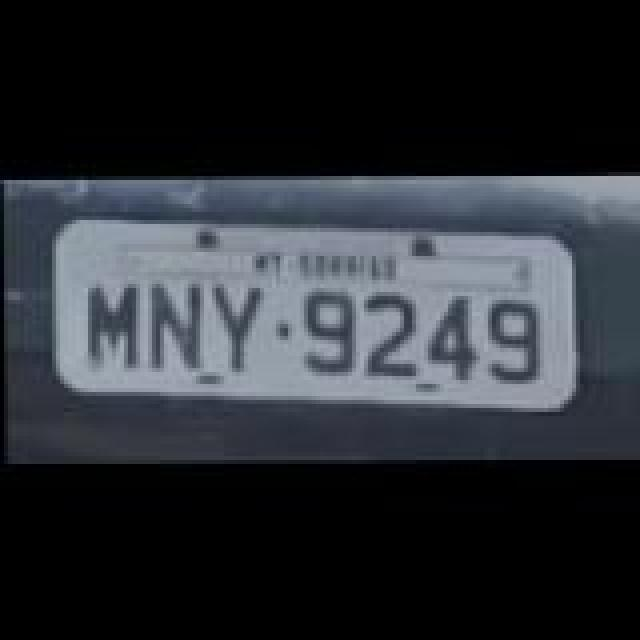2: (364, 292, 420, 376)
4: (426, 296, 478, 380)
9: (486, 300, 546, 384), (304, 288, 360, 372)
M: (88, 280, 144, 368)
N: (150, 278, 202, 366)
Y: (214, 278, 266, 366)
